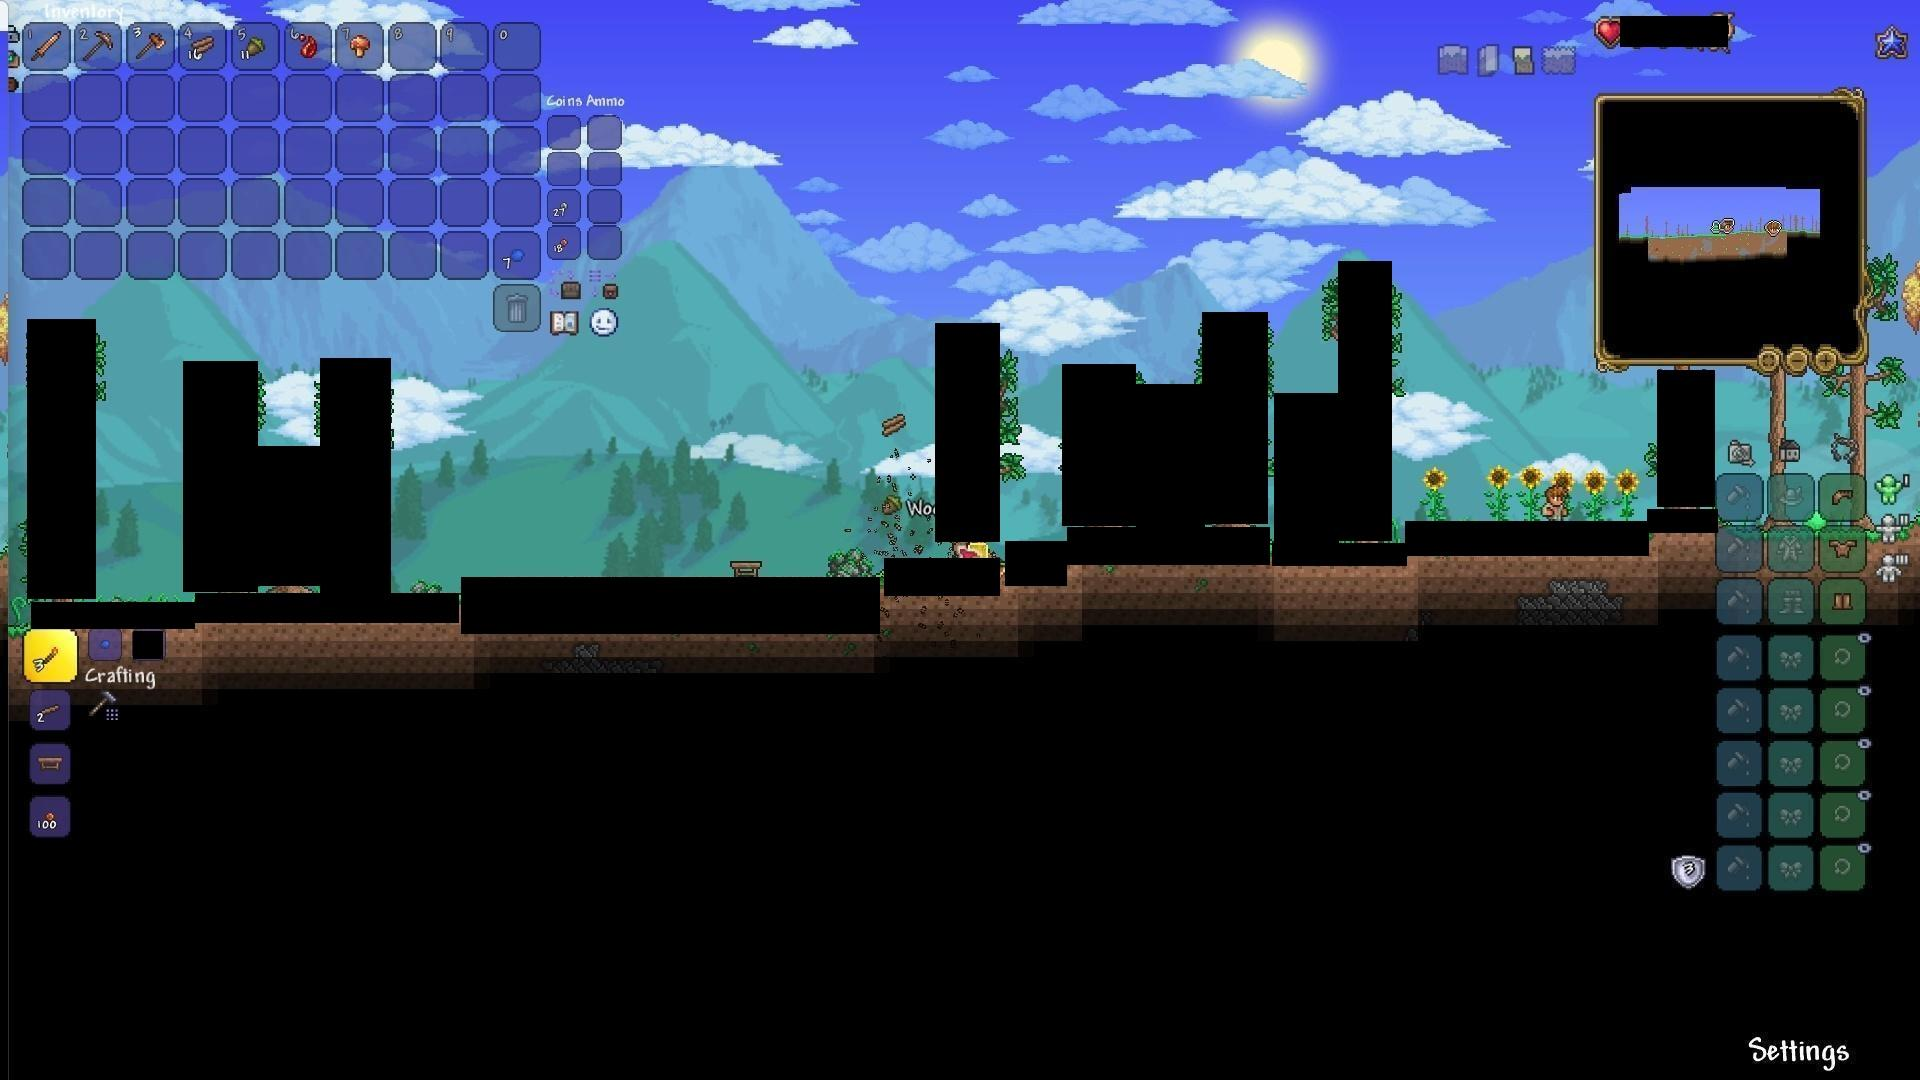breastplate: (1830, 539, 1859, 559)
heart: (1592, 13, 1626, 45)
helmet: (1829, 485, 1854, 506)
legs: (1830, 589, 1857, 615)
tree: (1830, 252, 1892, 476)
wood: (880, 413, 909, 440), (189, 34, 216, 61)
workbench: (728, 556, 765, 582), (32, 750, 69, 775)
